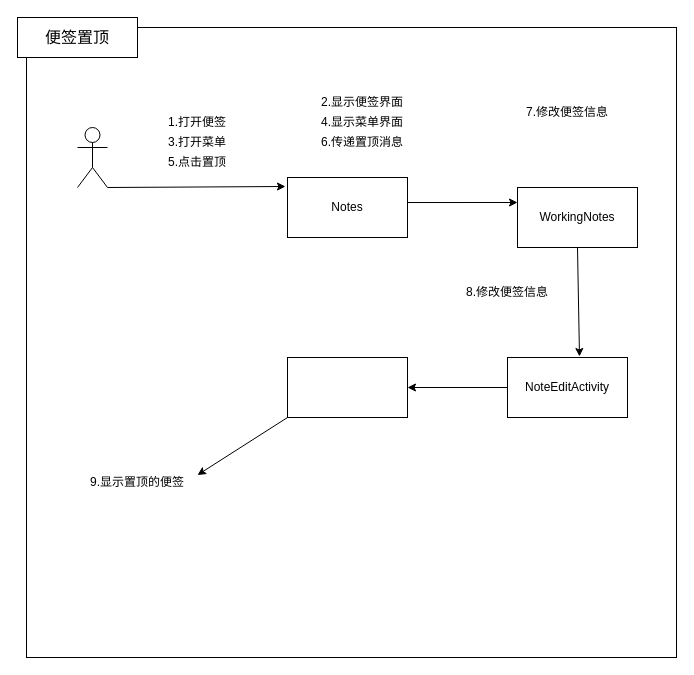
Some shapes in this 694 by 675 pixel diagram are drawn without their labels. The centre of each missing label's shape, as x and y in pixels:
"NoteitemData" belongs at [347,387].
"用户" belongs at [92,157].
